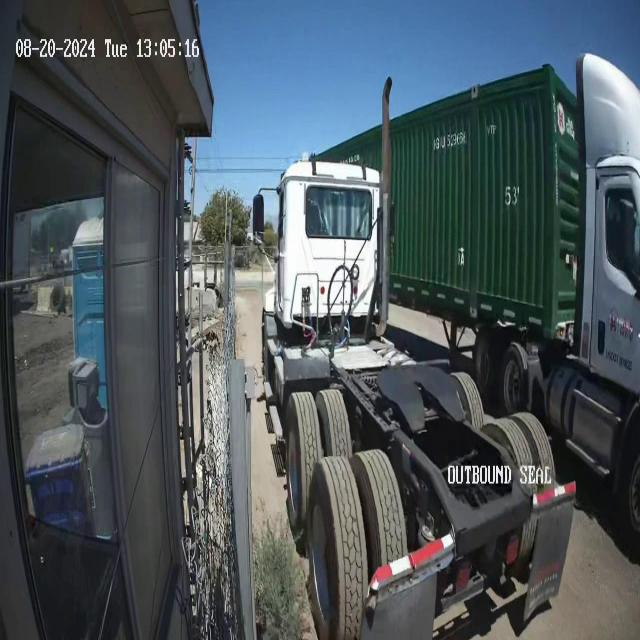BOBTAIL: (250, 79, 582, 640)
TRUCK_CONTAINER: (367, 54, 640, 544)
